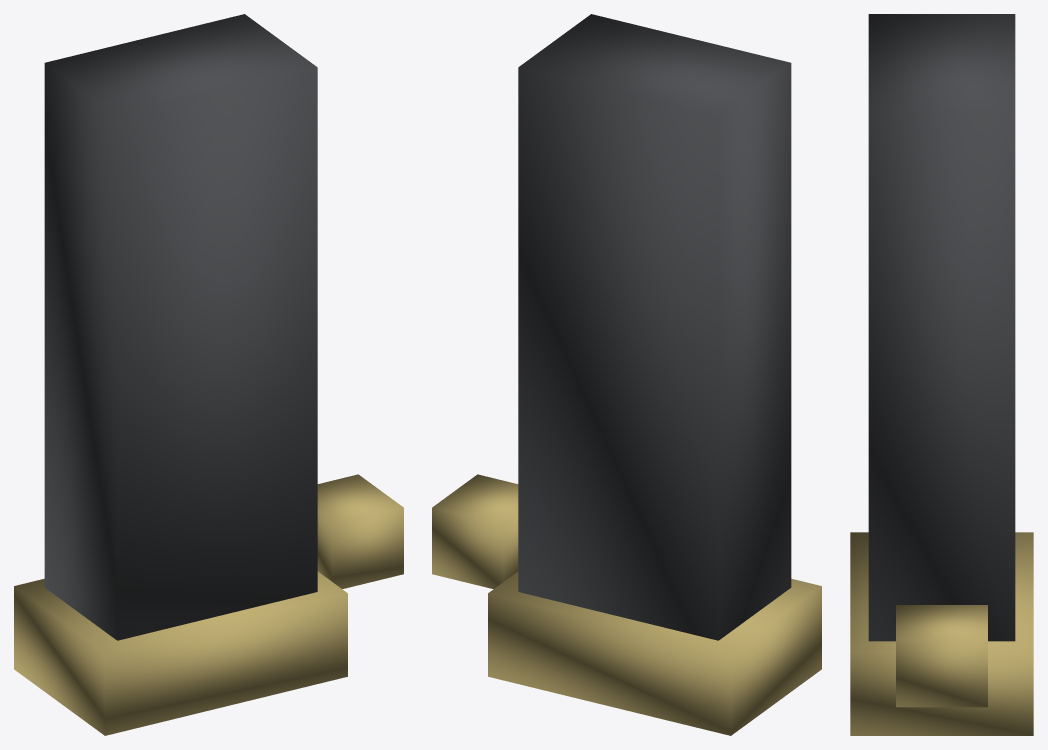
File: dock_bumper_05.glb
The picture shows the model from 3 angles, left to right: view 1: azimuth 30°, elevation 25°; view 2: azimuth 150°, elevation 25°; view 3: azimuth 270°, elevation 25°; orthographic projection.
Visible parts, largest first — view 1: world; view 2: world; view 3: world.
Boxes of the visible parts, x1,y1,x2,y2 form: world: (14,14,403,735); world: (432,14,821,735); world: (850,14,1033,735).
Size of the model in its own units: 0.396 by 0.7154 by 0.194.
